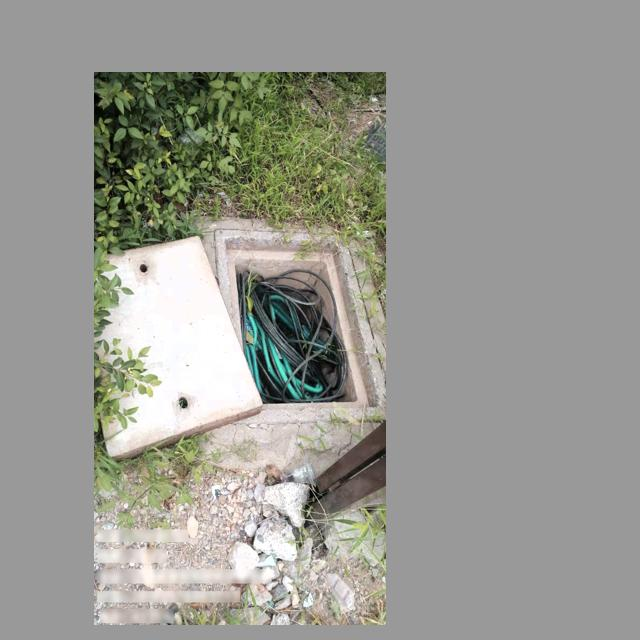uncovered: (94, 235, 386, 463)
